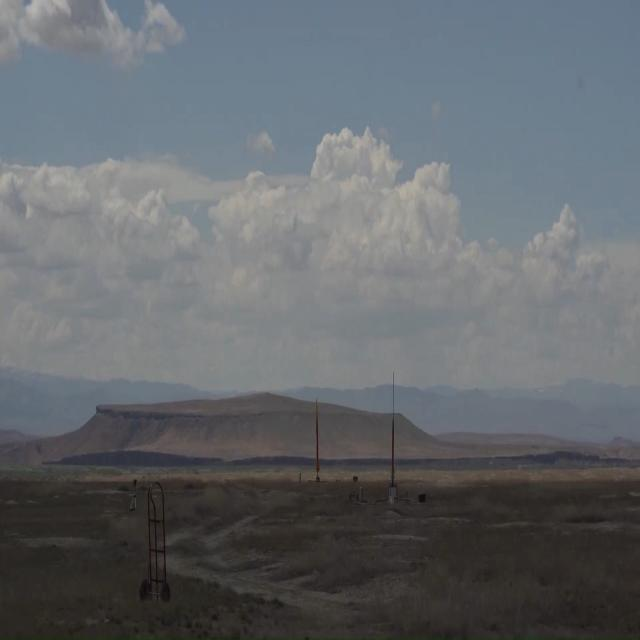Rocket: (315, 398, 320, 473), (390, 417, 395, 478)
